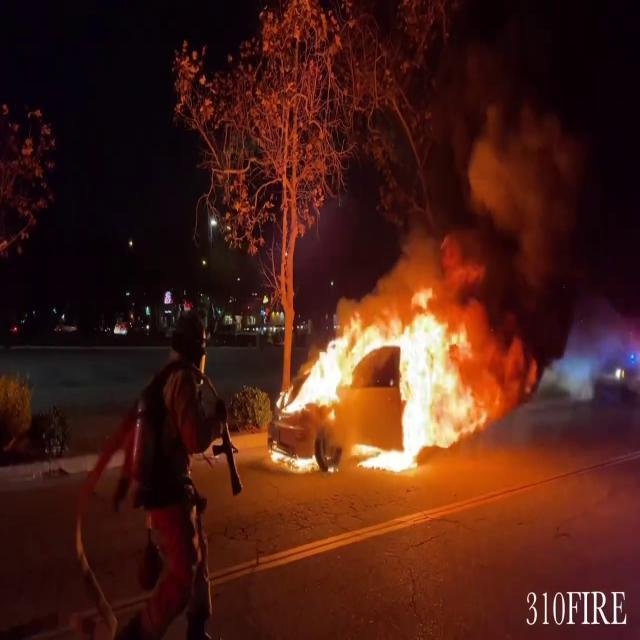Fire: (268, 288, 488, 476)
Smoke: (388, 14, 618, 278)
